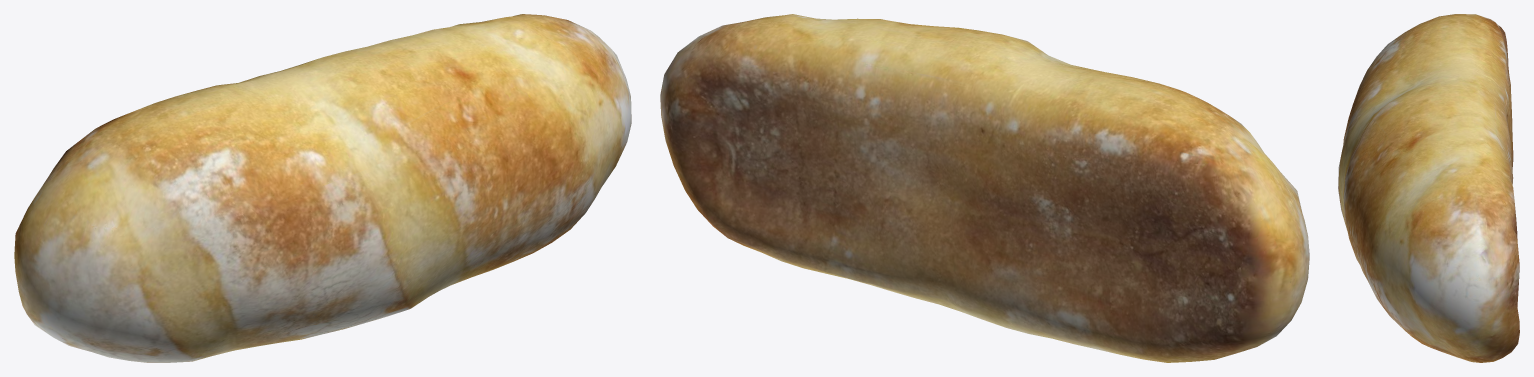
3 renders of one model, left to right at view 1: azimuth 30°, elevation 25°; view 2: azimuth 150°, elevation 25°; view 3: azimuth 270°, elevation 25°, orthographic. The views are drawn at different scales.
Visible parts, largest first — view 1: node_default_-4196_1; view 2: node_default_-4196_1; view 3: node_default_-4196_1.
Part boxes in pixels (x1,y1,x2,y2): node_default_-4196_1: (14,14,631,362); node_default_-4196_1: (660,14,1309,362); node_default_-4196_1: (1338,14,1519,362).
Bounding box in the file's own units: 0.145 × 0.0576 × 0.0447.
Materials: 1 (1 with a texture image).
